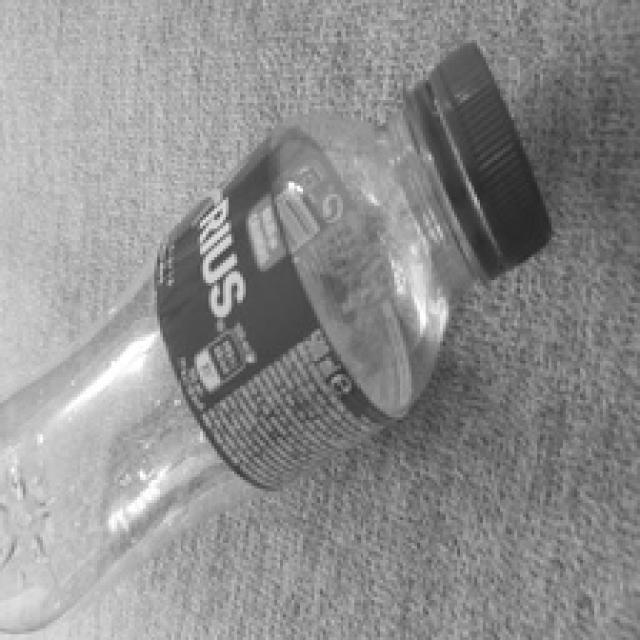plastic bottle: (0, 36, 572, 623)
